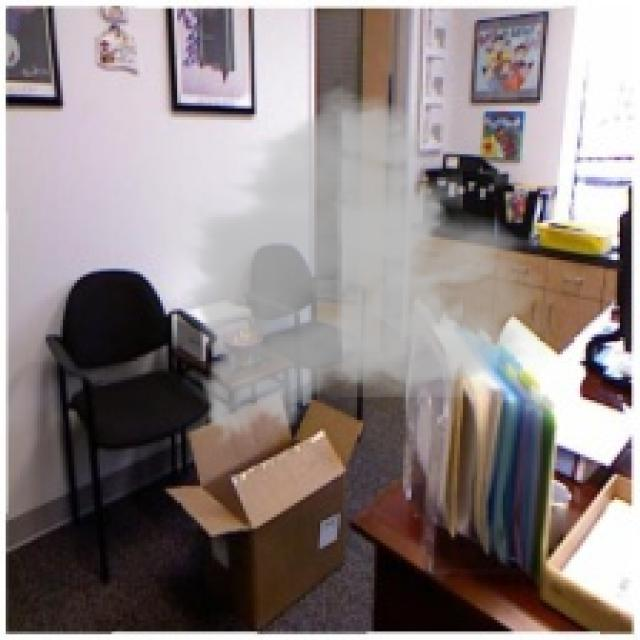smoke: (177, 74, 549, 454)
